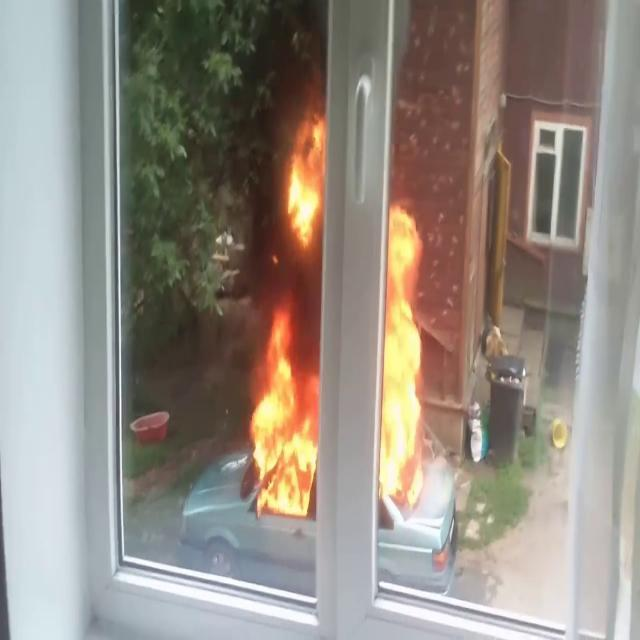Fire: (378, 193, 432, 507), (243, 306, 321, 518), (284, 100, 328, 248)
